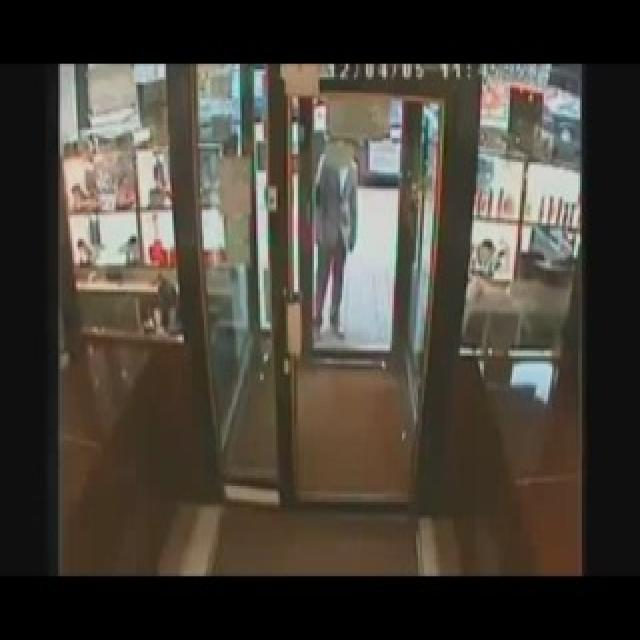thief: (306, 134, 362, 346)
